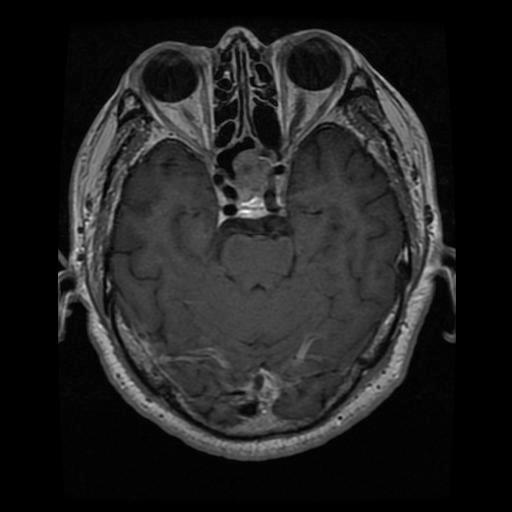Tumour-Pituitary: (197, 158, 304, 231)
